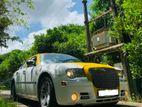car: (10, 53, 121, 107)
